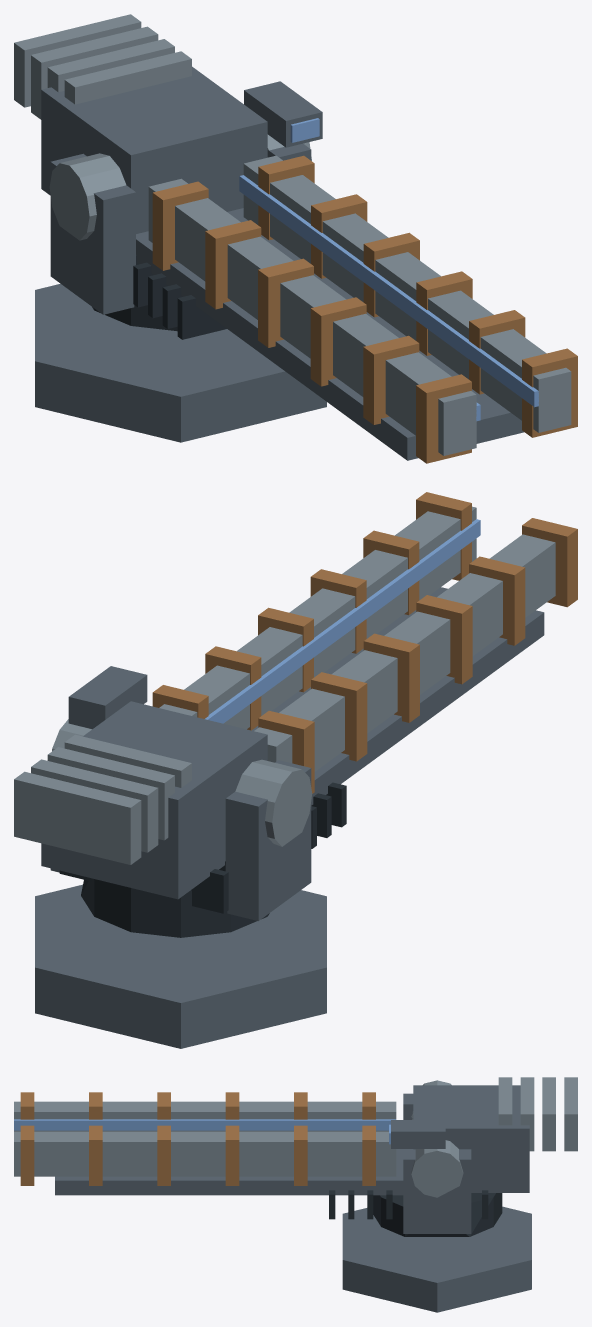
Rendered from railgun_t3_d0.meshopt.glb.
3 views of the same model, one above another, from view 1: azimuth 30°, elevation 25°; view 2: azimuth 150°, elevation 25°; view 3: azimuth 270°, elevation 25° (orthographic). The views are drawn at different scales.
Parts seen in each view (by area): view 1: ROOT_ARMOR_GEOMETRY; view 2: ROOT_ARMOR_GEOMETRY; view 3: ROOT_ARMOR_GEOMETRY.
Boxes of the visible parts, x1,y1,x2,y2 form: ROOT_ARMOR_GEOMETRY: (14,14,577,463); ROOT_ARMOR_GEOMETRY: (14,492,577,1048); ROOT_ARMOR_GEOMETRY: (14,1077,577,1312).
Size of the model in its own units: 1.6 by 1.38 by 4.13.
